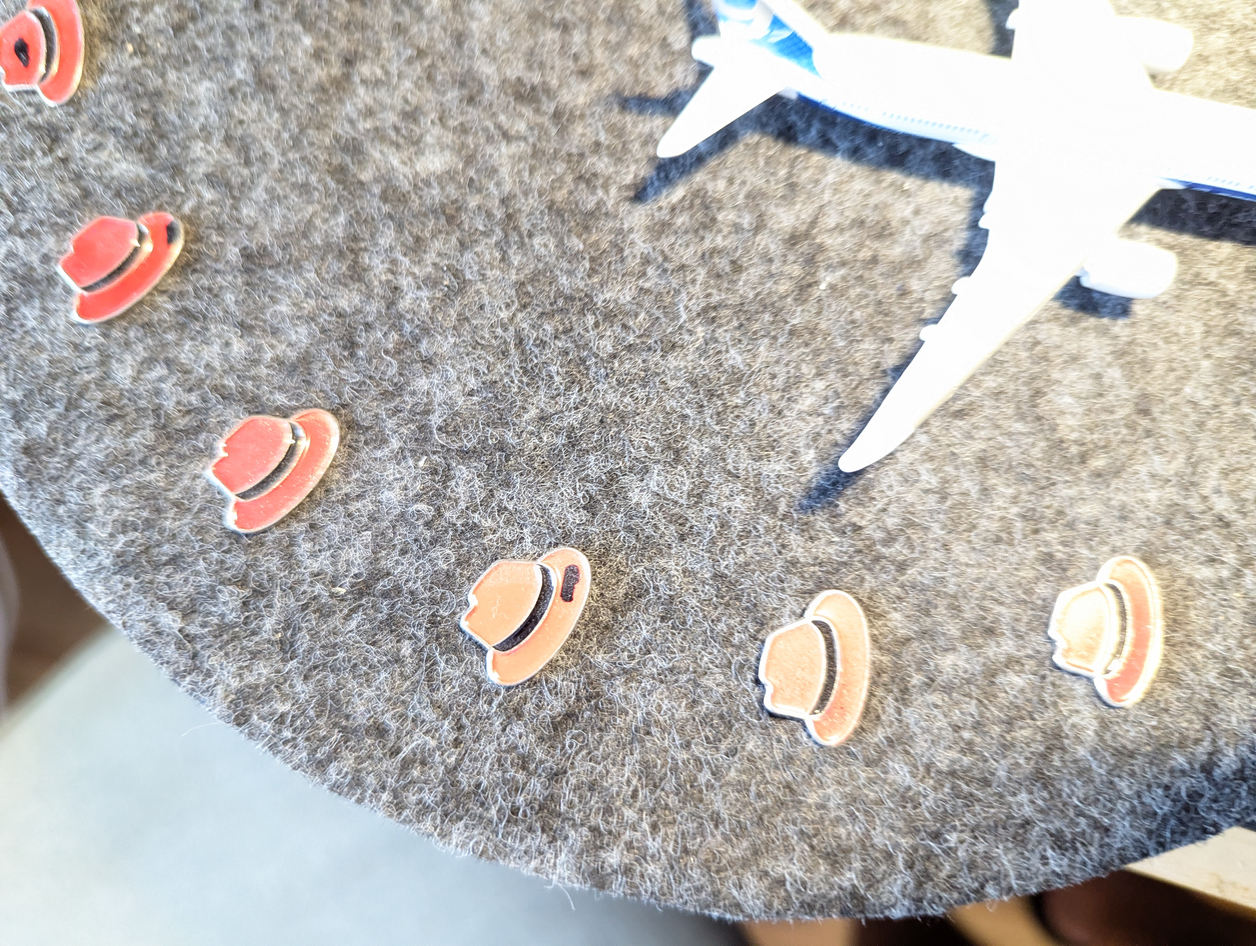Airplane: (577, 0, 1256, 489)
Red-Hat: (444, 520, 633, 704), (192, 380, 357, 578), (750, 576, 902, 777), (1041, 536, 1186, 726), (38, 187, 194, 332), (0, 0, 88, 118)
Scratch: (551, 556, 605, 614), (153, 214, 213, 259), (3, 30, 46, 72)
